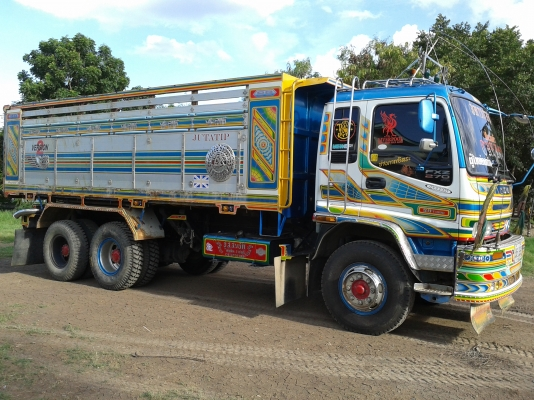truck: (4, 75, 521, 335)
